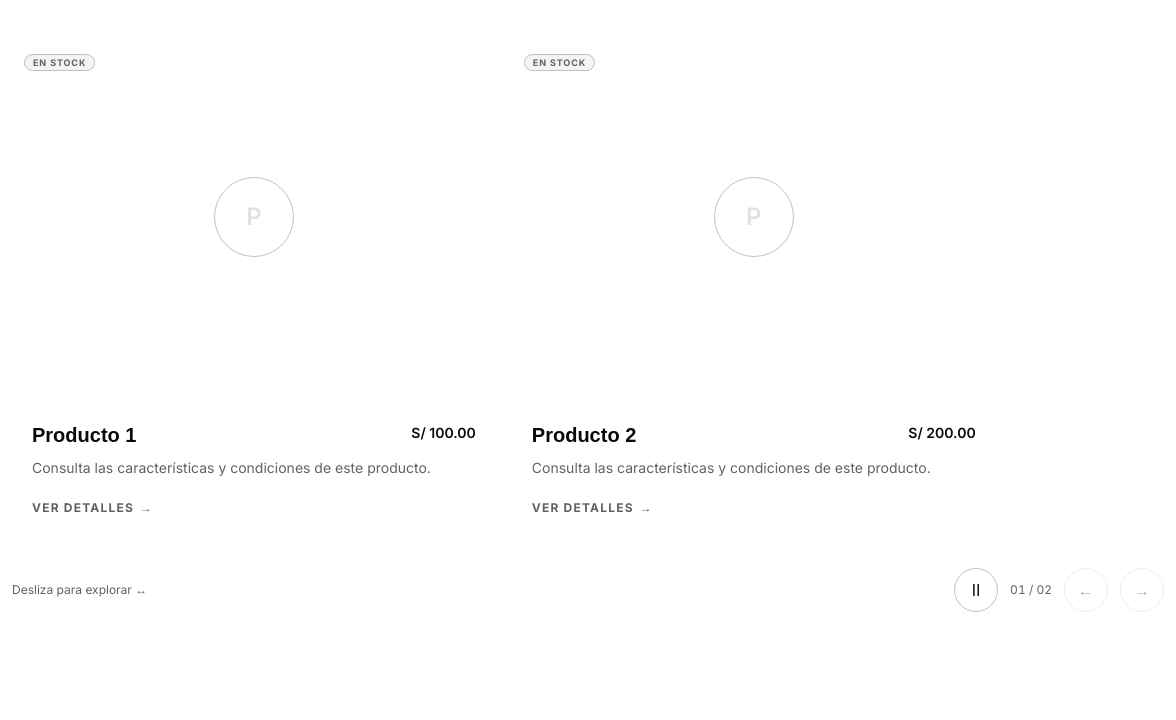
Test: carrusel de productos › avanza solo mientras nadie lo toca, y cede al enfocarlo
Expected: the button named "Pausar avance automático" is shown, [954,568,998,612]
Focus the link that starts with "En stock" at point(254, 286), box [12,36,496,536]
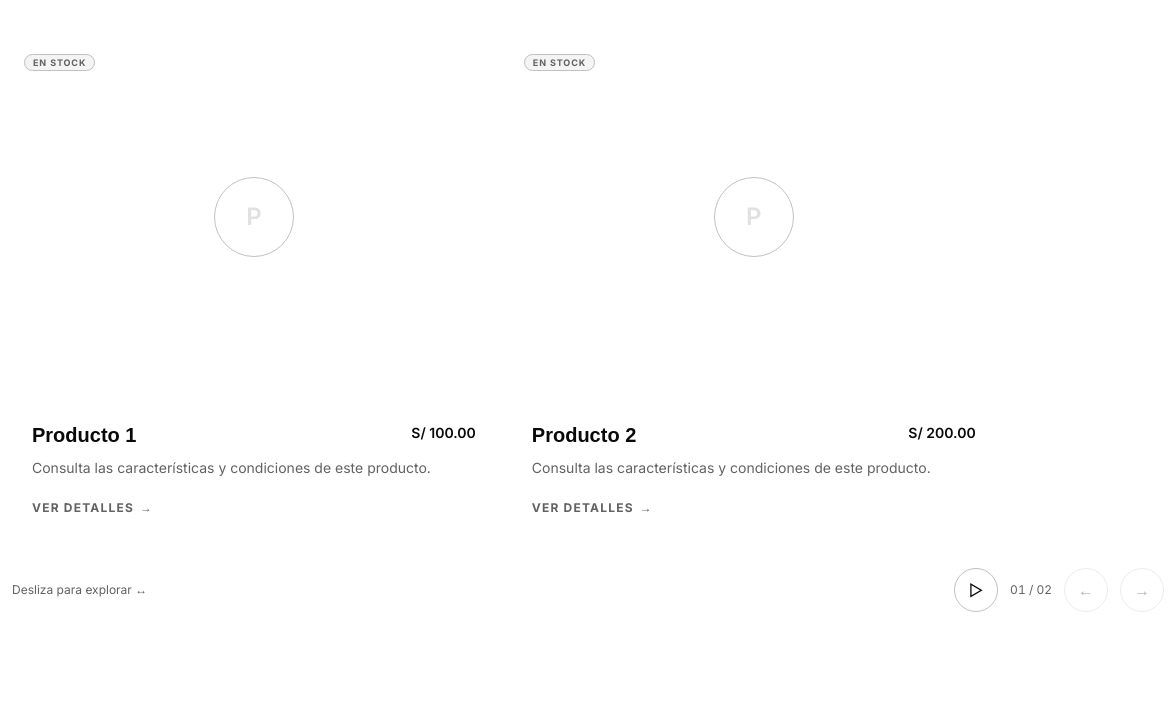
Now the button named "Reanudar avance automático" is shown, box [954,568,998,612]
